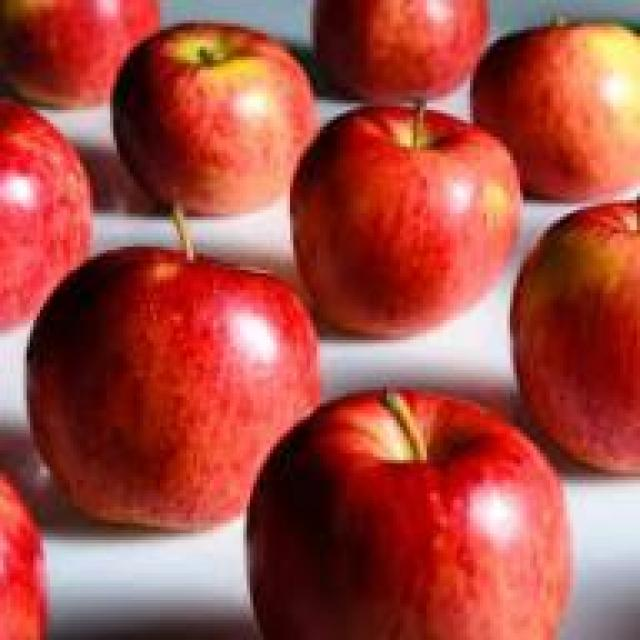apple: (27, 260, 330, 523), (253, 407, 580, 633), (290, 113, 510, 330), (106, 27, 326, 216), (496, 207, 636, 460), (480, 17, 637, 193), (3, 3, 164, 120)
